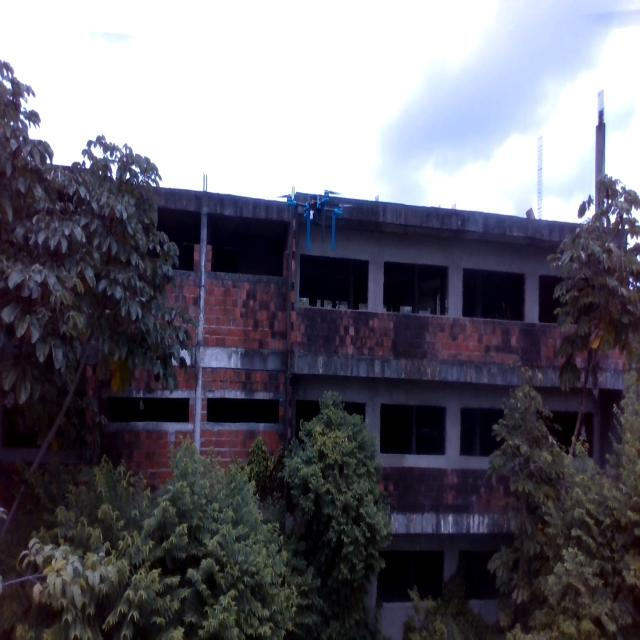-uav-: (274, 169, 359, 262)
